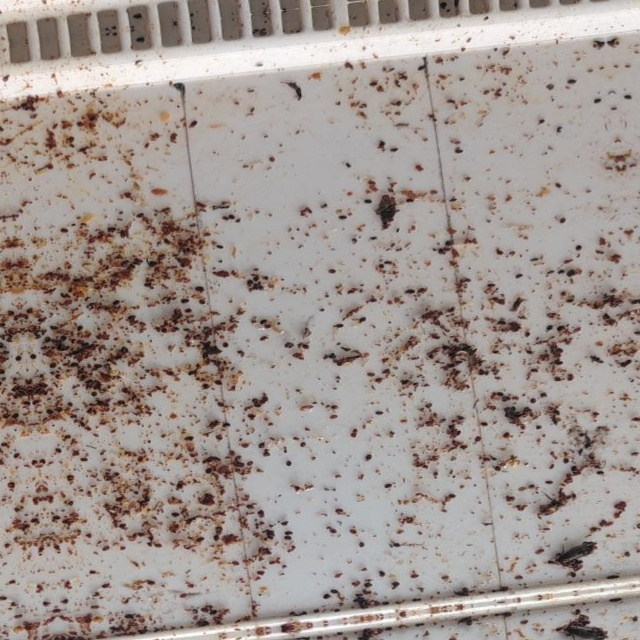varroa: (330, 507, 345, 516), (532, 547, 547, 556), (167, 511, 180, 520), (256, 335, 270, 343), (552, 182, 563, 192), (258, 319, 270, 328), (498, 431, 510, 440), (242, 504, 254, 513), (434, 417, 447, 425), (277, 535, 290, 543), (97, 545, 110, 553), (212, 433, 222, 443), (187, 121, 198, 130), (209, 535, 220, 544), (346, 528, 358, 536), (594, 469, 606, 477), (332, 323, 345, 330), (372, 410, 385, 417), (419, 403, 432, 410), (497, 586, 510, 593), (202, 467, 212, 476), (355, 541, 365, 550), (59, 597, 69, 606), (591, 99, 602, 107), (336, 215, 347, 223), (552, 347, 563, 355), (109, 299, 120, 307), (282, 342, 293, 350), (220, 421, 231, 429), (329, 404, 340, 412), (115, 523, 126, 531), (150, 543, 161, 551), (565, 79, 577, 86), (361, 200, 373, 207), (401, 198, 413, 205), (67, 363, 79, 370), (457, 444, 469, 451), (192, 536, 204, 543), (324, 529, 336, 536), (619, 552, 631, 559), (438, 575, 450, 582), (255, 570, 267, 577), (121, 614, 133, 621), (219, 341, 228, 350), (283, 460, 292, 469), (119, 386, 129, 394), (31, 400, 41, 408), (64, 475, 74, 483), (51, 514, 61, 522), (493, 250, 503, 258), (57, 227, 68, 234), (512, 274, 523, 281), (552, 360, 563, 367), (495, 320, 506, 327), (326, 268, 337, 275), (182, 308, 193, 315), (179, 299, 190, 306), (193, 286, 204, 293), (73, 326, 84, 333), (212, 243, 223, 250), (325, 414, 336, 421), (494, 391, 505, 398), (407, 574, 418, 581), (320, 594, 331, 601), (229, 560, 240, 567), (98, 583, 109, 590), (432, 59, 444, 65), (74, 122, 83, 130), (435, 248, 444, 256), (251, 402, 260, 410), (53, 407, 62, 415), (47, 361, 55, 370), (27, 353, 36, 361), (53, 373, 62, 381), (88, 391, 97, 399), (119, 348, 128, 356), (123, 316, 135, 322), (499, 397, 511, 403), (472, 436, 481, 444), (364, 453, 372, 462), (261, 450, 270, 458), (255, 442, 264, 450), (62, 433, 71, 441), (282, 532, 294, 538), (541, 480, 553, 486), (552, 377, 562, 384), (214, 402, 224, 409), (77, 343, 87, 350), (492, 466, 502, 473), (382, 483, 392, 490), (51, 448, 61, 455), (390, 543, 400, 550), (206, 610, 216, 617), (144, 580, 154, 587), (452, 150, 463, 156), (415, 66, 426, 72), (387, 149, 398, 155), (564, 298, 575, 304), (613, 299, 624, 305), (616, 363, 627, 369), (586, 356, 597, 362), (362, 372, 373, 378), (511, 576, 522, 582), (558, 217, 566, 225), (115, 400, 123, 408), (196, 299, 205, 306), (245, 279, 252, 288), (200, 384, 209, 391), (69, 351, 78, 358), (158, 327, 167, 334), (479, 421, 488, 428), (78, 457, 87, 464), (64, 501, 73, 508), (374, 572, 383, 579), (331, 607, 340, 614), (525, 484, 534, 491), (446, 494, 455, 501), (366, 82, 376, 88), (447, 197, 457, 203), (76, 148, 86, 154), (554, 270, 564, 276), (442, 241, 452, 247), (486, 283, 496, 289), (555, 326, 565, 332), (356, 317, 366, 323), (92, 363, 102, 369), (328, 590, 338, 596), (392, 101, 400, 108), (574, 245, 581, 253), (377, 264, 385, 271), (300, 344, 308, 351), (213, 380, 221, 387), (92, 384, 100, 391), (85, 380, 93, 387), (58, 336, 66, 343), (42, 337, 50, 344), (560, 458, 568, 465), (38, 458, 46, 465), (363, 582, 371, 589), (189, 608, 196, 616), (353, 593, 364, 598), (134, 214, 143, 220), (544, 325, 553, 331), (623, 360, 632, 366), (595, 360, 604, 366), (591, 357, 600, 363), (538, 393, 547, 399), (405, 289, 414, 295), (250, 398, 259, 404), (528, 369, 538, 374), (522, 331, 529, 338), (119, 261, 126, 268), (143, 282, 150, 289), (257, 286, 264, 293), (83, 385, 90, 392), (245, 461, 252, 468), (226, 214, 234, 220), (629, 300, 637, 306), (523, 350, 531, 356), (114, 355, 122, 361), (298, 442, 306, 448), (267, 157, 274, 163), (66, 137, 73, 143), (252, 277, 259, 283), (45, 409, 51, 416), (259, 401, 265, 406), (261, 396, 267, 401), (66, 402, 72, 407), (529, 399, 535, 403)
